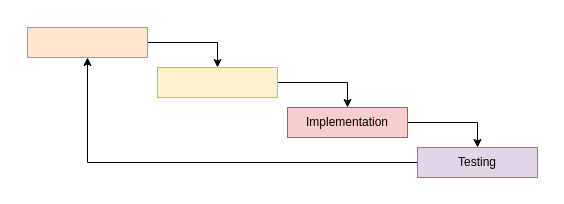
The diagram is 564 pixels wide and 204 high, and some of its shapes have lost their labels. The shapes that lost their labels are listed below. From the top down, each one's centre as x and y in pixels, then its label:
point (87, 42): Requirements Gathering & Analysis
point (217, 82): Design
